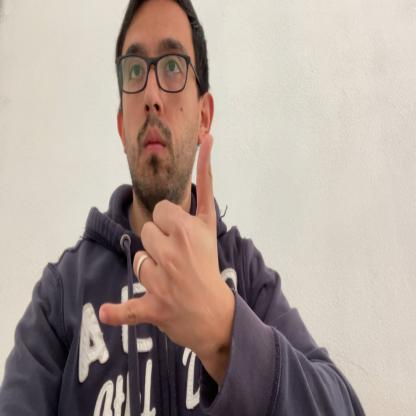Y: (99, 134, 226, 362)
